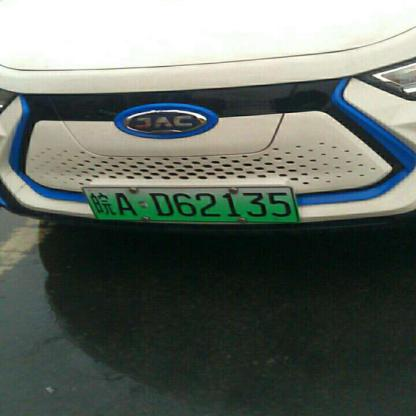lp: (82, 186, 297, 220)
